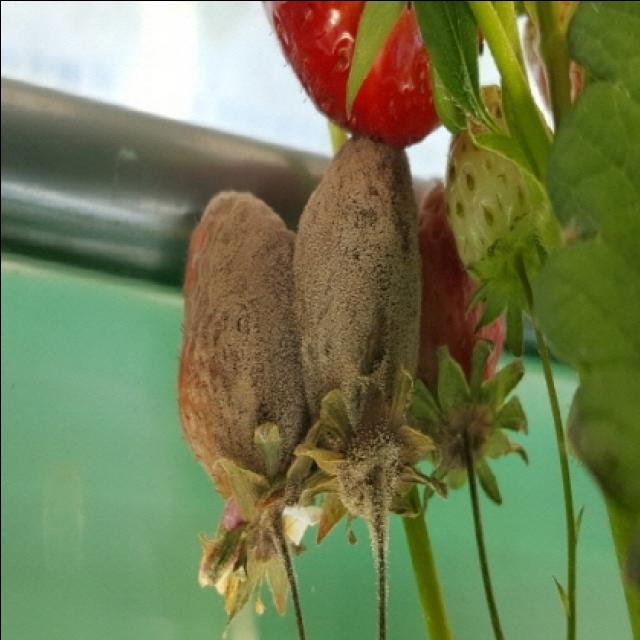Gray Mold: (291, 134, 448, 570), (175, 189, 327, 629)
